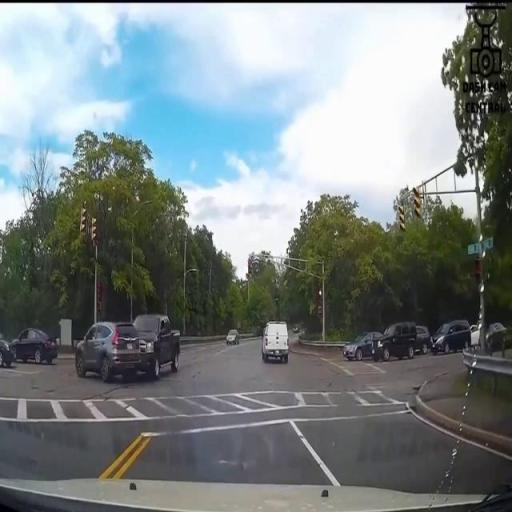小汽车: (375, 321, 420, 360), (260, 317, 294, 366), (10, 331, 56, 363), (432, 322, 471, 356), (345, 328, 385, 358), (223, 326, 243, 346)
小汽车撞小汽车: (80, 314, 186, 381)
